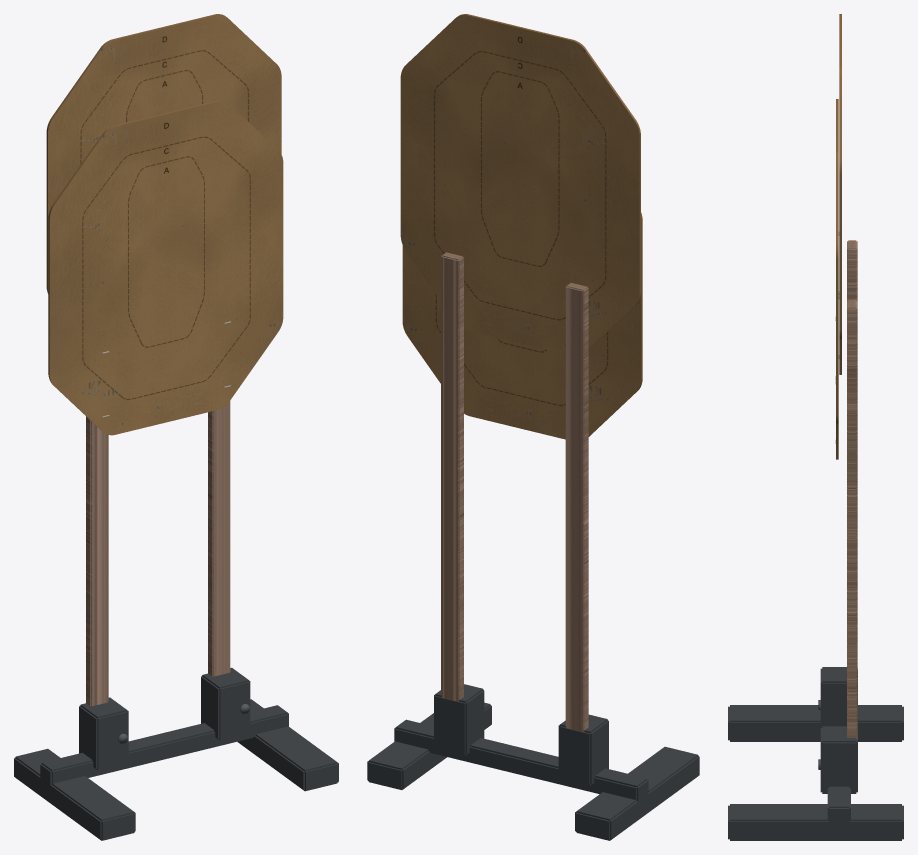
Rendered from obj_paper_stack_double.glb.
The picture shows the model from 3 angles, left to right: view 1: azimuth 30°, elevation 25°; view 2: azimuth 150°, elevation 25°; view 3: azimuth 270°, elevation 25°; orthographic projection. The views are drawn at different scales.
Parts seen in each view (by area): view 1: card.001, paper_stack_double_body, card; view 2: card, paper_stack_double_body, card.001; view 3: paper_stack_double_body, card, card.001.
Part boxes in pixels (x1,y1,x2,y2): card.001: (48,100,283,435); paper_stack_double_body: (14,401,338,840); card: (46,14,281,293); card: (400,14,640,354); paper_stack_double_body: (367,252,699,840); card.001: (402,212,642,439); paper_stack_double_body: (728,240,903,840); card: (839,14,841,374); card.001: (836,99,838,459).
Size of the model in its own units: 0.47 by 1.4 by 0.3.
Materials: 5 (2 with a texture image).
